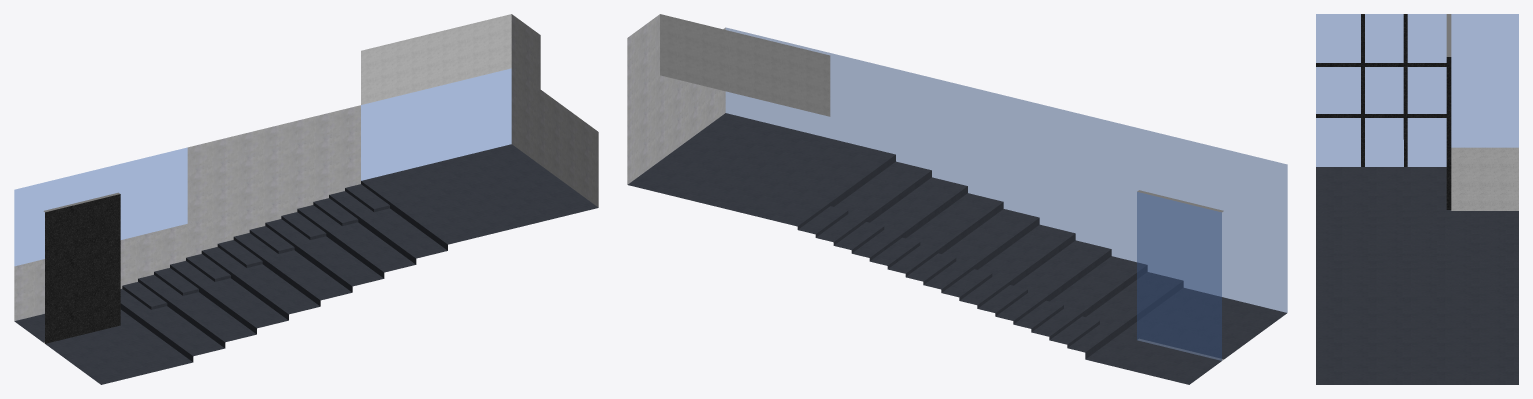
File: Trappenzaal.gltf
The picture shows the model from 3 angles, left to right: view 1: azimuth 30°, elevation 25°; view 2: azimuth 150°, elevation 25°; view 3: azimuth 270°, elevation 25°; orthographic projection. The views are drawn at different scales.
Visible parts, largest first — view 1: PolishedConcreteOrTile (×5), Transparent, Metal, GlassThin; view 2: PolishedConcreteOrTile (×3), GlassThick, GlassThin, Room; view 3: PolishedConcreteOrTile (×4), GlassThick, Transparent, Metal (×2), Room.
Part boxes in pixels (x1,y1,x2,y2): PolishedConcreteOrTile (×5): [14, 14, 598, 384]; Transparent: [361, 68, 511, 180]; Metal: [45, 194, 120, 343]; GlassThin: [14, 147, 187, 265]; PolishedConcreteOrTile (×3): [627, 14, 1286, 384]; GlassThick: [725, 27, 1287, 312]; GlassThin: [1137, 192, 1221, 360]; Room: [660, 14, 1223, 360]; PolishedConcreteOrTile (×4): [1316, 147, 1518, 384]; GlassThick: [1316, 14, 1446, 166]; Transparent: [1451, 14, 1518, 147]; Metal (×2): [1316, 14, 1451, 209]; Room: [1446, 14, 1451, 56].
Bounding box in the file's own units: 29.7 × 10.6 × 9.
7 materials, 5 textured.
